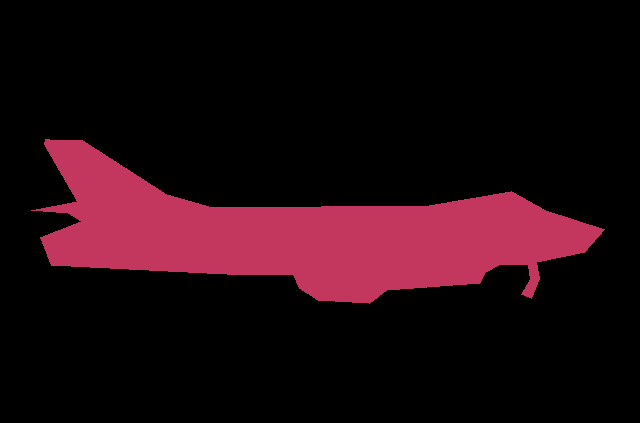Airplane: (31, 139, 605, 304)
